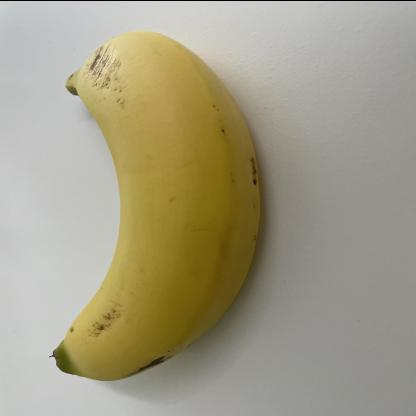banana: (46, 31, 264, 380)
